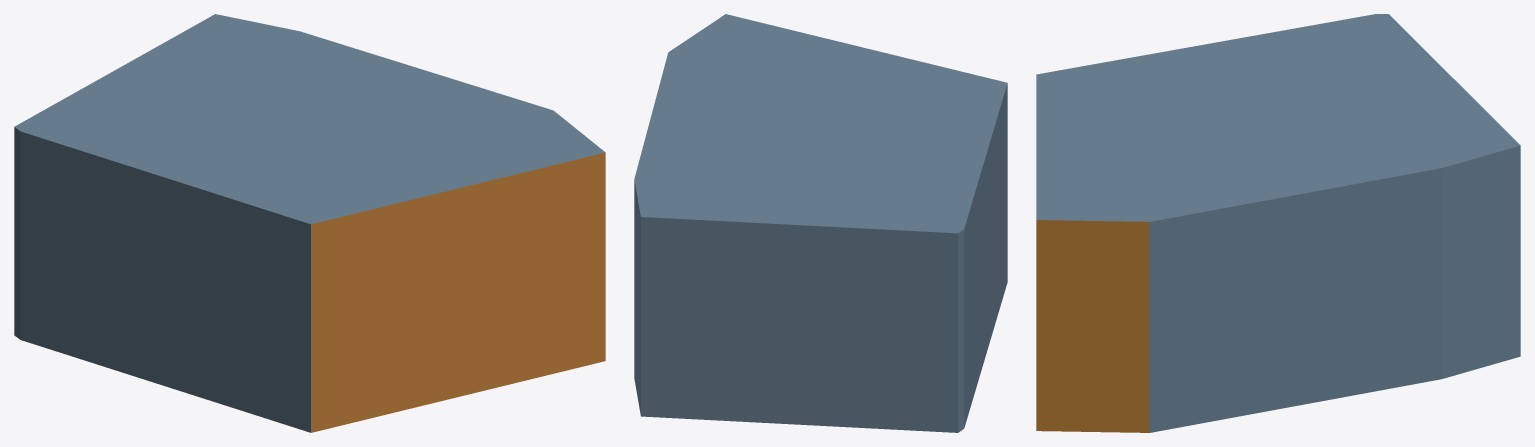
Rendered from room_model.obj.
3 views of the same model, side by side, from view 1: azimuth 30°, elevation 25°; view 2: azimuth 150°, elevation 25°; view 3: azimuth 270°, elevation 25° (orthographic). The views are drawn at different scales.
Visible parts, largest first — view 1: ceiling-001, wall-002, wall-003, wall-004; view 2: wall-005, ceiling-001, wall-003, wall-006, wall-004; view 3: ceiling-001, wall-007, wall-001, wall-006.
Part boxes in pixels (bbox=[...]): ceiling-001: bbox=[14, 14, 605, 224]; wall-002: bbox=[311, 152, 605, 432]; wall-003: bbox=[20, 131, 310, 432]; wall-004: bbox=[14, 127, 20, 339]; wall-005: bbox=[641, 217, 958, 432]; ceiling-001: bbox=[634, 14, 1007, 233]; wall-003: bbox=[964, 83, 1007, 427]; wall-006: bbox=[634, 180, 640, 415]; wall-004: bbox=[958, 229, 964, 432]; ceiling-001: bbox=[1036, 14, 1520, 221]; wall-007: bbox=[1150, 168, 1441, 432]; wall-001: bbox=[1036, 220, 1149, 432]; wall-006: bbox=[1442, 145, 1520, 378].
Bounding box in the file's own units: 5.64 × 2.67 × 5.56.
